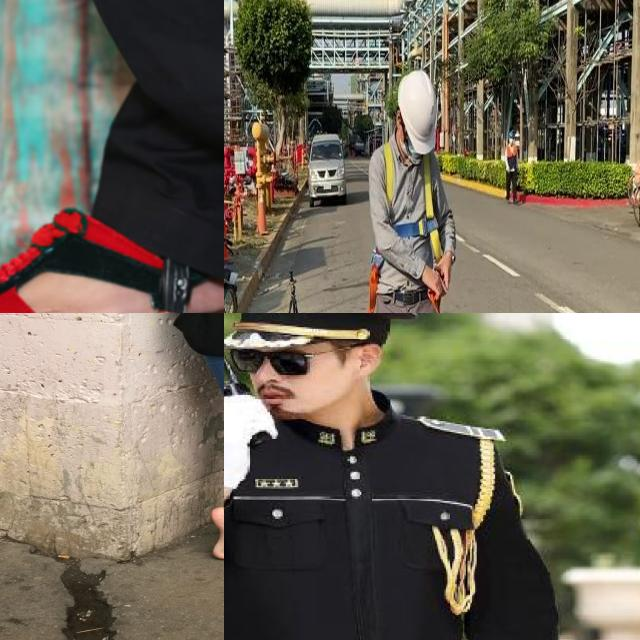Barefoots: (210, 507, 224, 561)
Harness: (383, 143, 444, 262), (367, 248, 385, 313)
No_Ear-Protection: (353, 338, 384, 385)
Sandals: (0, 199, 224, 313)
face_nomask: (232, 338, 348, 412)
glasses: (228, 346, 316, 384)
hand_glove: (224, 393, 282, 479)
head_nohelmet: (224, 313, 407, 359)
person: (224, 313, 562, 640)
